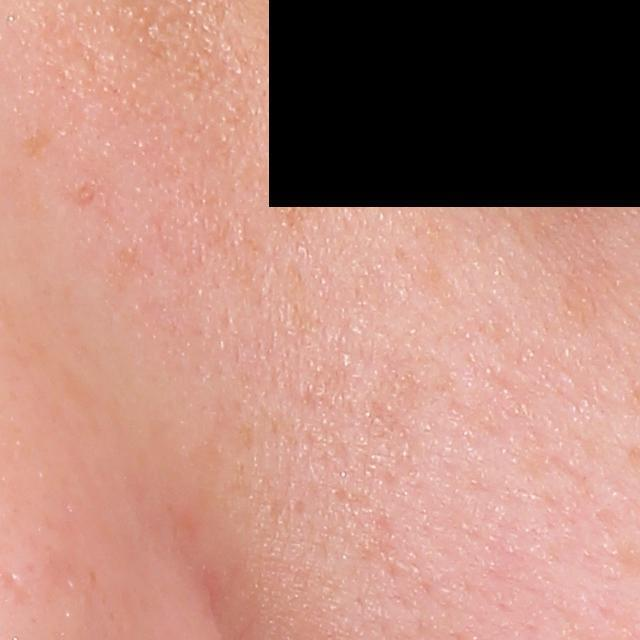melasma: (270, 176, 320, 237), (558, 270, 608, 324), (19, 128, 53, 162)
